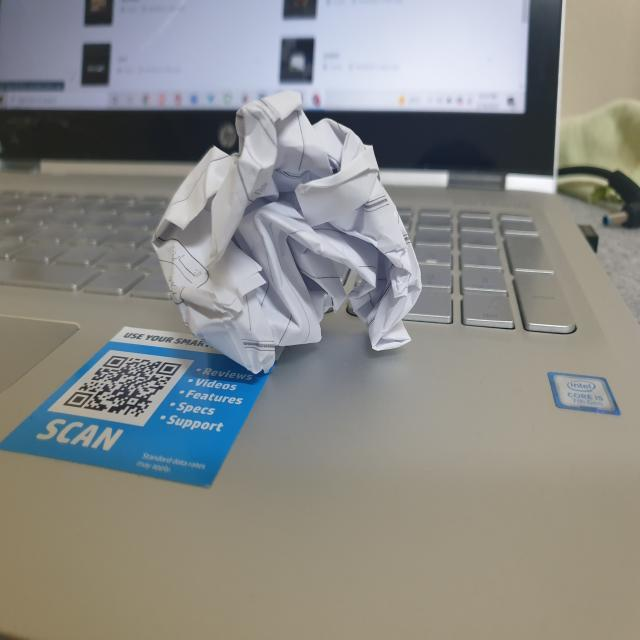Paper: (149, 85, 425, 374)
